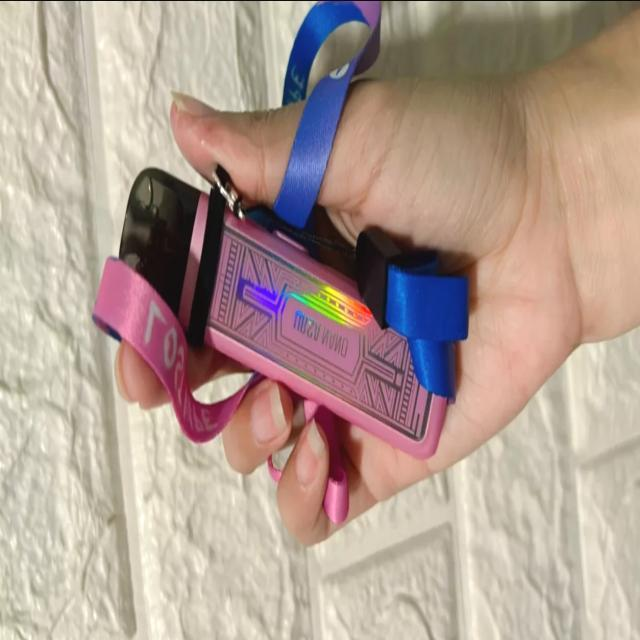Hazard: (118, 162, 452, 462)
